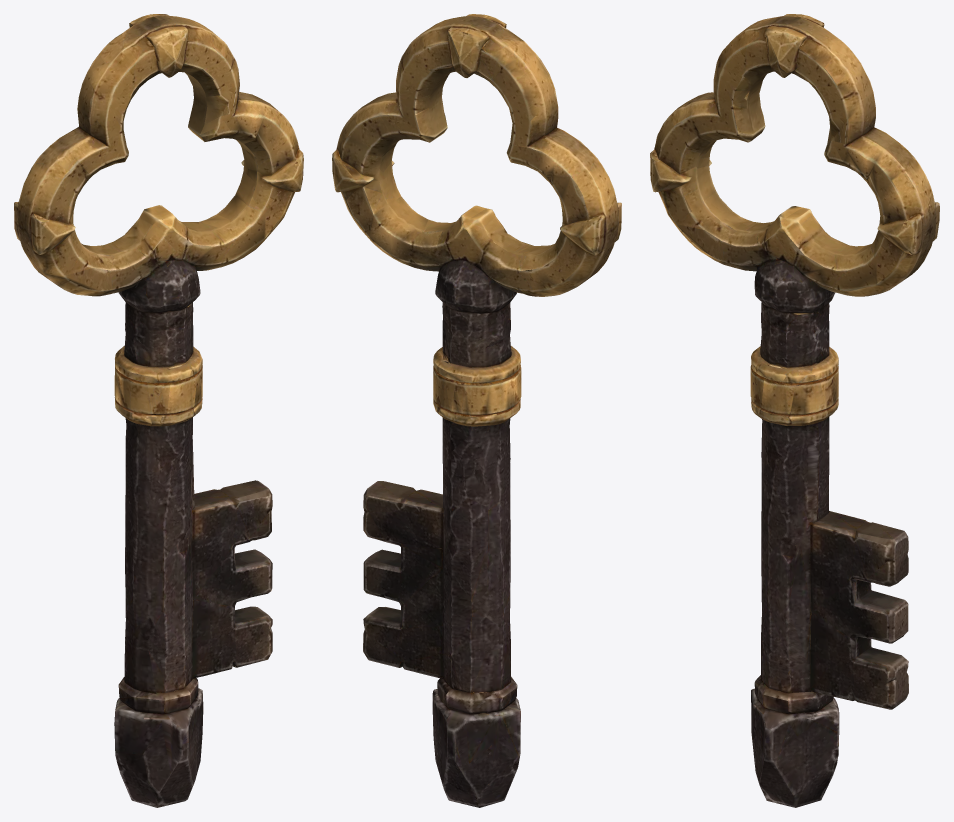
File: threshold-key.glb
The picture shows the model from 3 angles, left to right: view 1: azimuth 30°, elevation 25°; view 2: azimuth 150°, elevation 25°; view 3: azimuth 330°, elevation 25°; orthographic projection.
Parts seen in each view (by area): view 1: Mesh_0; view 2: Mesh_0; view 3: Mesh_0.
Part boxes in pixels (bbox=[...]): Mesh_0: bbox=[14, 14, 303, 807]; Mesh_0: bbox=[332, 14, 621, 807]; Mesh_0: bbox=[650, 14, 939, 807].
Size of the model in its own units: 0.6925 by 1.9 by 0.2346.
Materials: 1 (1 with a texture image).
